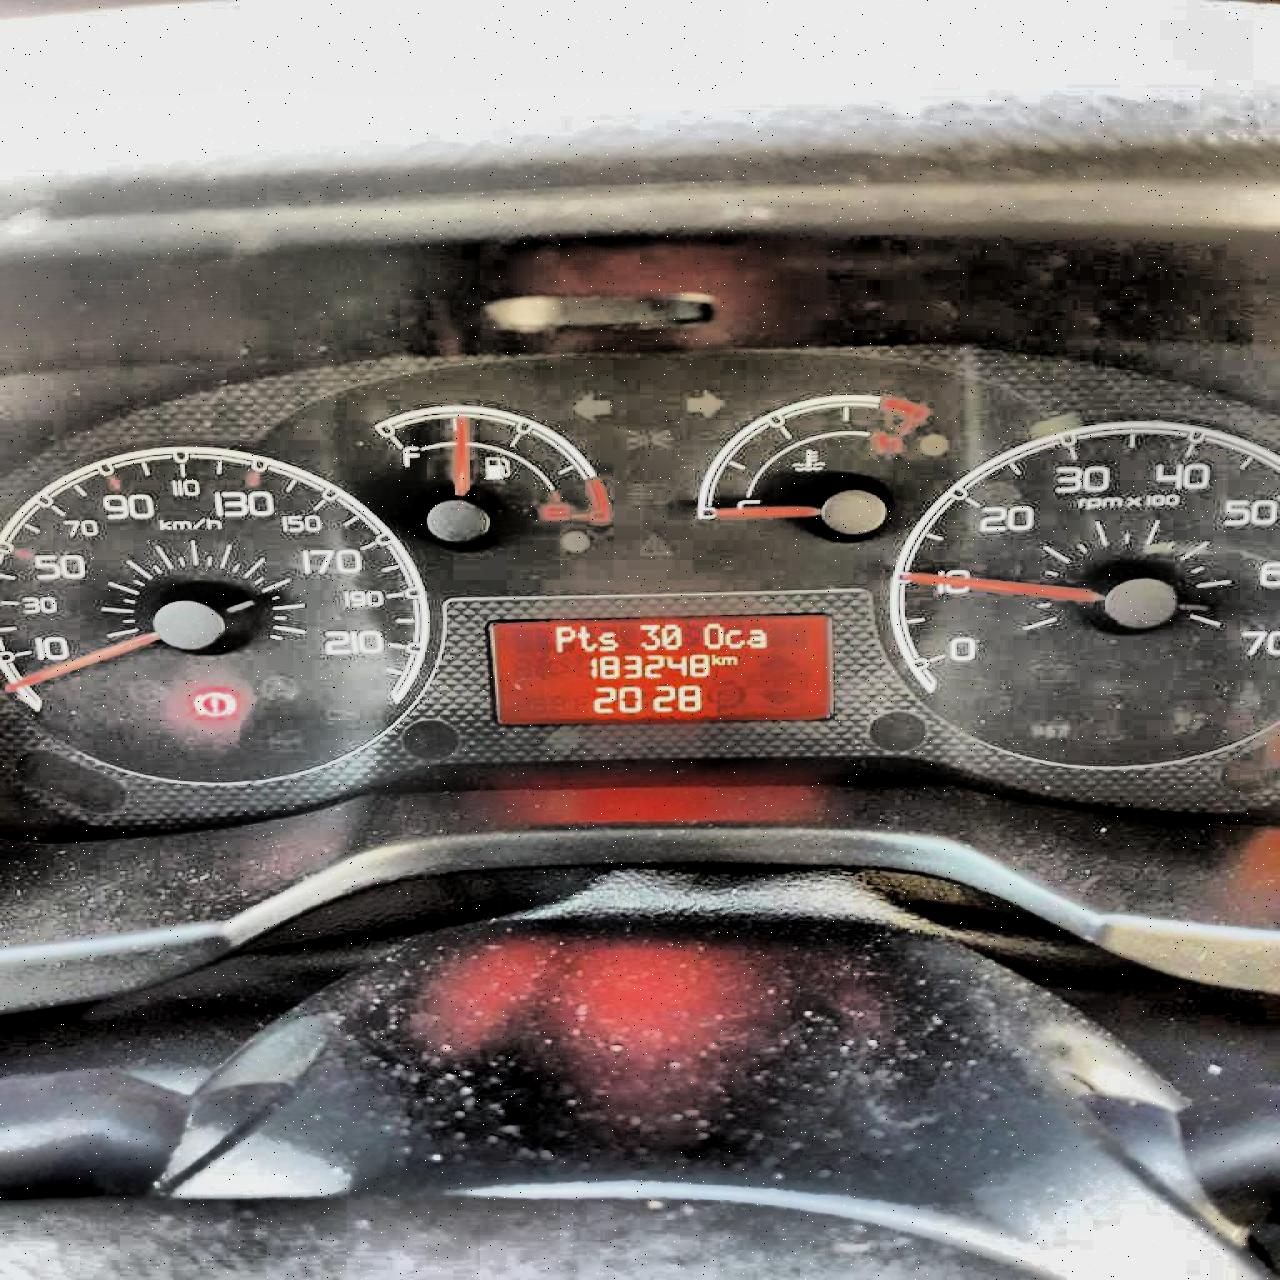0: (617, 686, 641, 713), (660, 622, 682, 649)
1: (588, 656, 597, 679)
2: (651, 683, 675, 712), (592, 686, 615, 714), (644, 654, 663, 678)
3: (639, 624, 660, 648), (621, 654, 641, 678)
4: (666, 654, 687, 676)
8: (676, 683, 700, 712), (599, 655, 619, 679), (688, 653, 708, 676)
X: (700, 621, 723, 648), (553, 625, 574, 653), (576, 625, 597, 651), (745, 627, 767, 648), (597, 631, 618, 651), (723, 629, 743, 649), (719, 655, 737, 663), (710, 653, 719, 666)
odometer: (485, 611, 832, 726)
